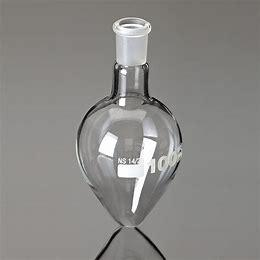Pear shaped flask: (71, 13, 188, 232)
